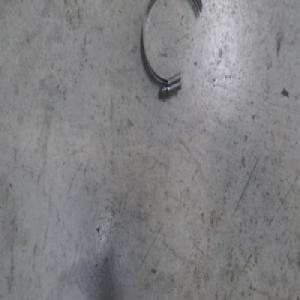AdjustableClamp: (140, 0, 204, 98)
